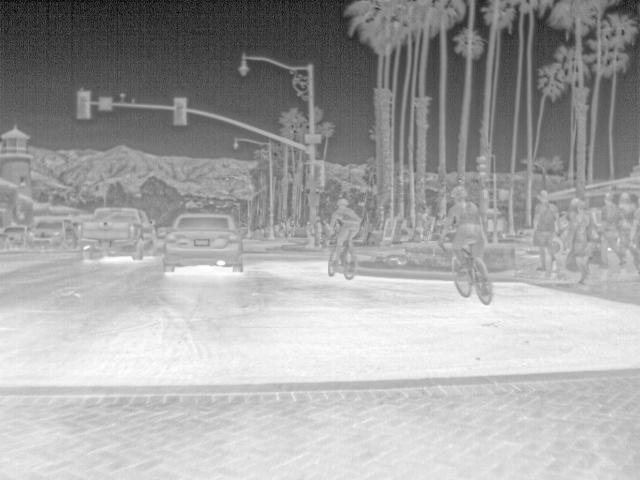car: (161, 211, 244, 271), (78, 206, 155, 261), (26, 214, 75, 249), (0, 226, 32, 247)
person: (446, 186, 494, 295), (561, 195, 591, 282), (328, 198, 365, 268), (596, 190, 625, 273), (532, 189, 559, 268), (611, 190, 635, 269)
